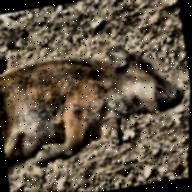boar: (0, 34, 191, 176)
